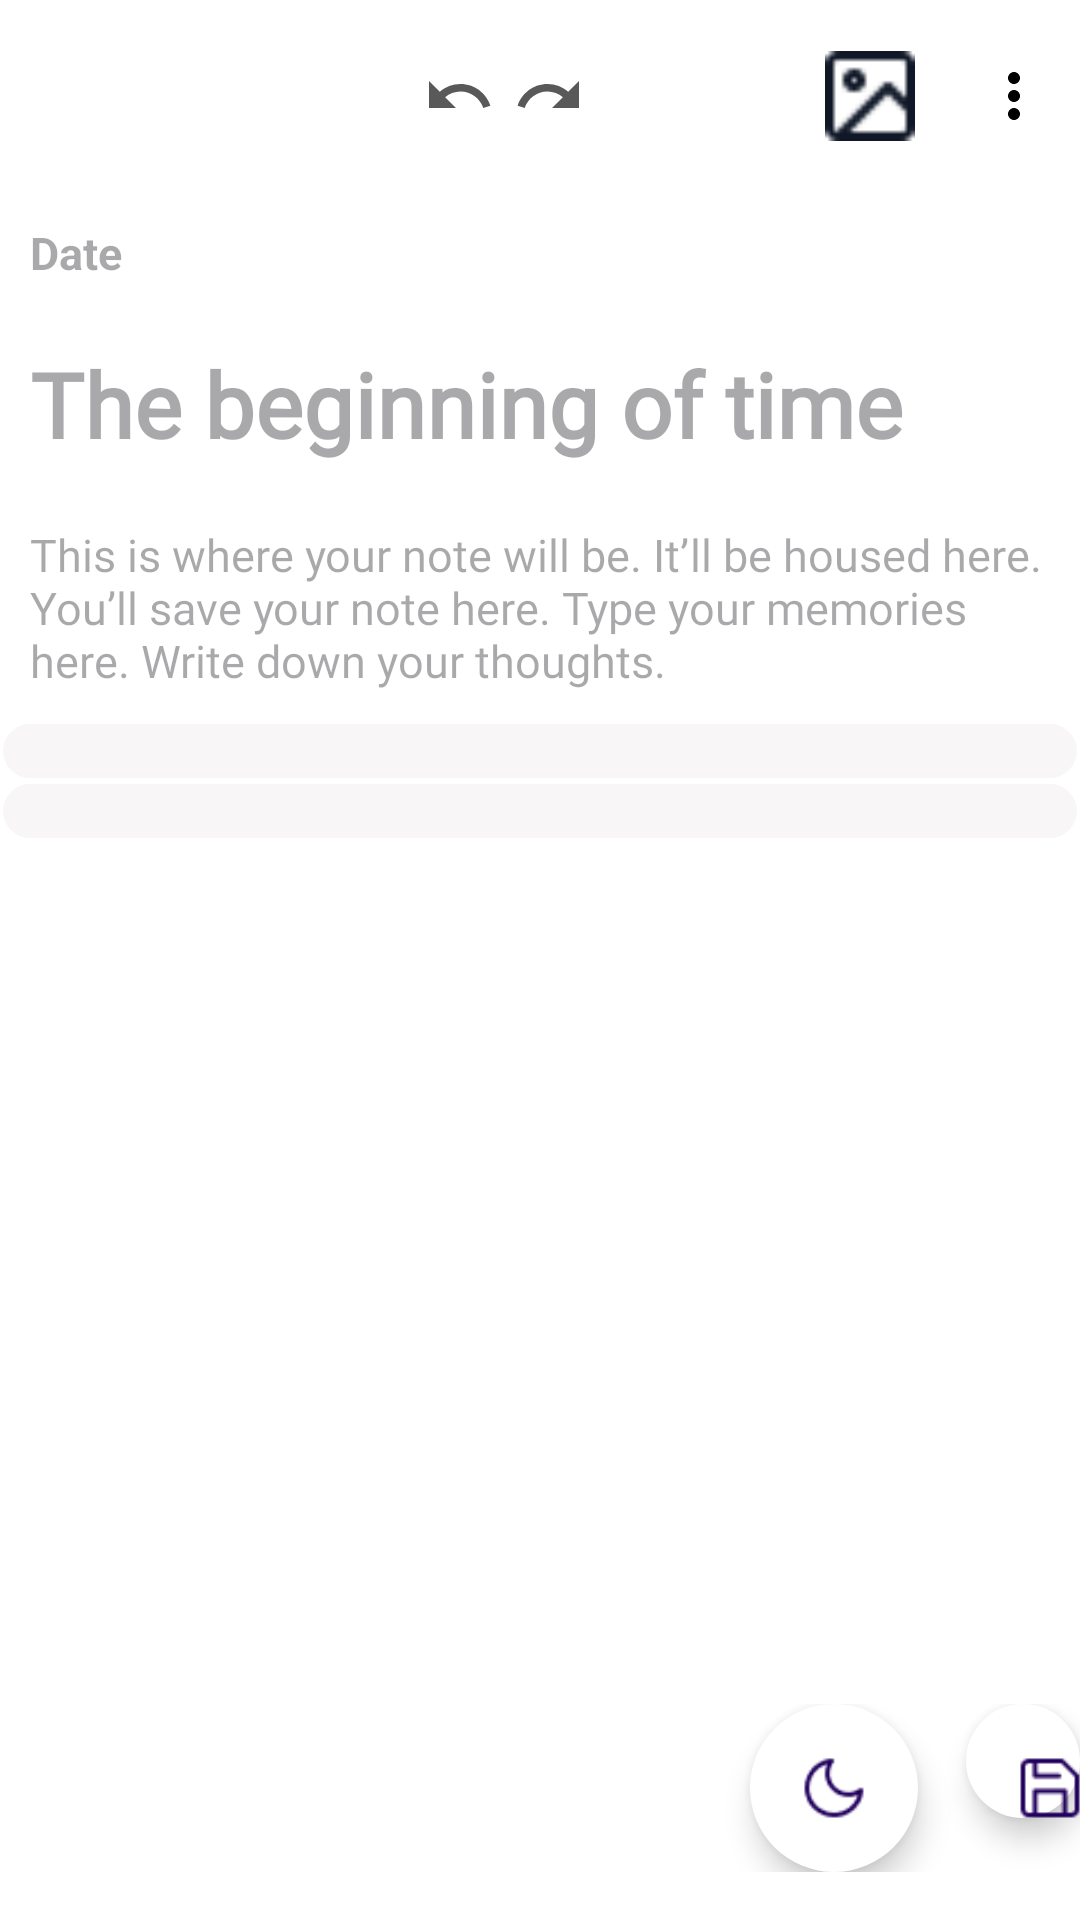

Named icons in this screenshot (1080px×1920px) and their bounding boxes, (x1=x1, y1=y1, x2=x2, y2=y2):
moon: (x1=753, y1=1758, x2=918, y2=1872)
redo: (x1=517, y1=81, x2=579, y2=108)
undo: (x1=429, y1=81, x2=491, y2=108)
